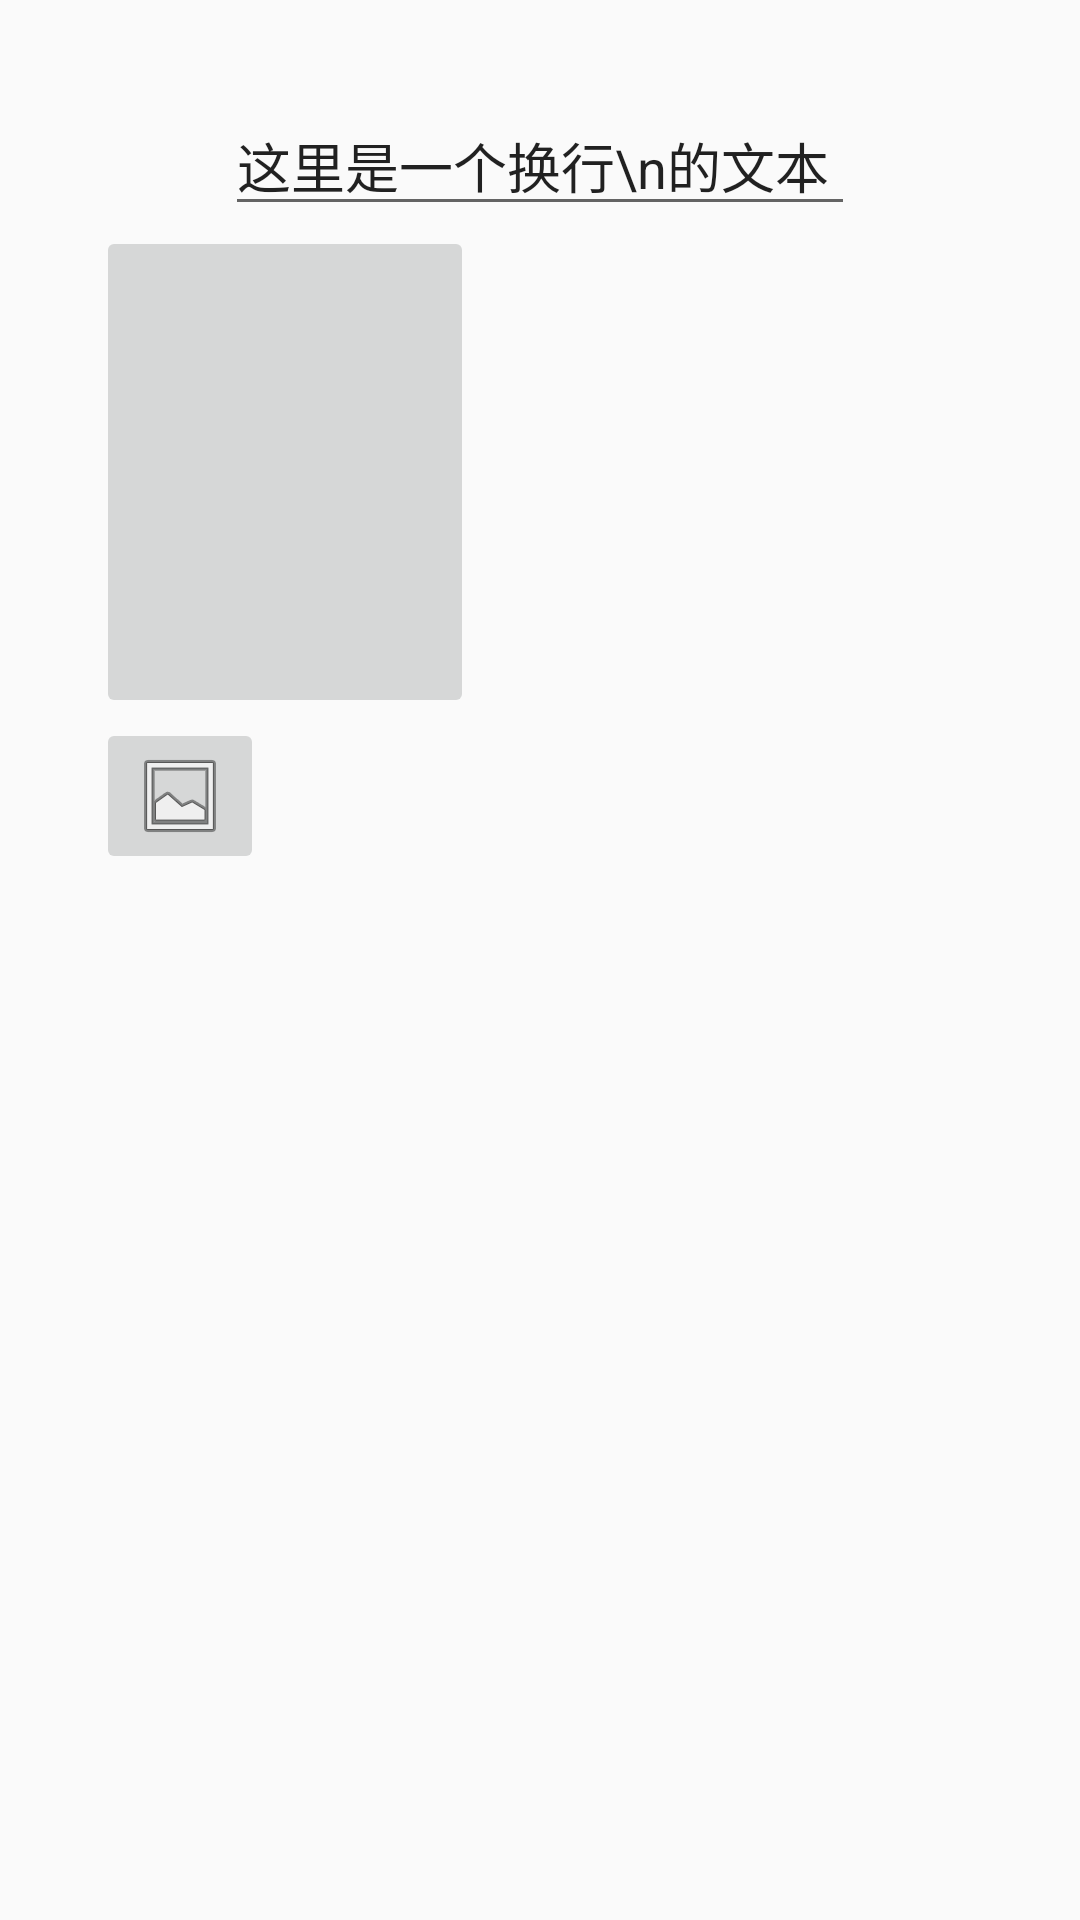

Icons on this 1080 × 1920 Android screen, each with the point to tap as (x=x, y=y):
gallery: (x=180, y=796)
